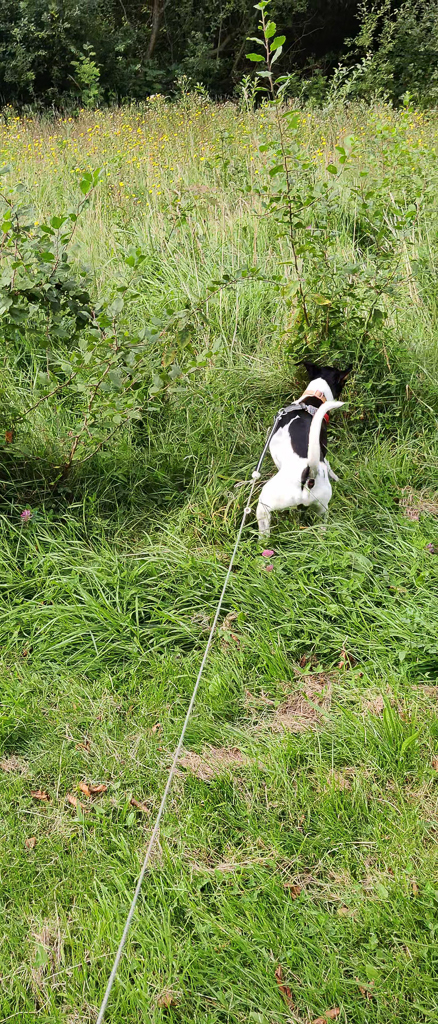Dog: (234, 353, 384, 561)
